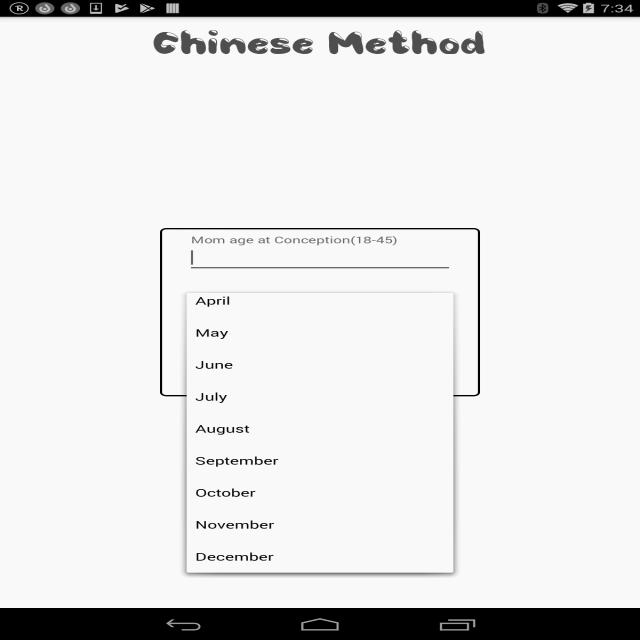EditText: (180, 244, 457, 274)
TextView: (145, 26, 505, 59), (197, 539, 279, 567), (190, 479, 267, 501), (187, 384, 250, 408), (189, 293, 247, 307)
